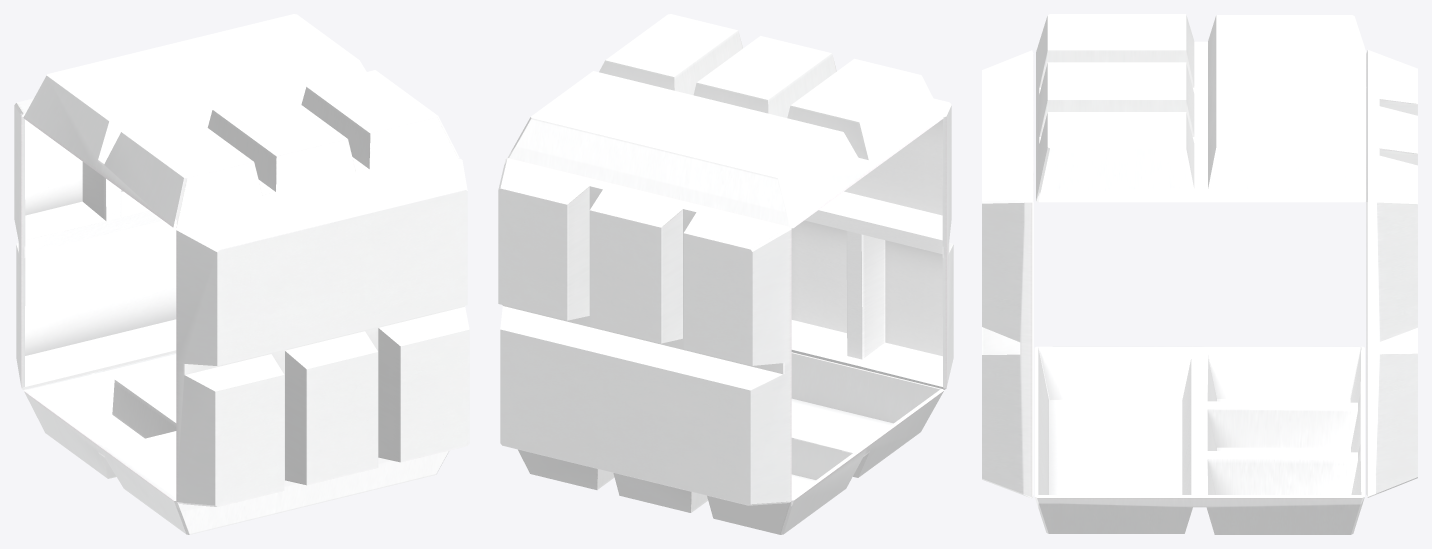
Rendered from bento_center_cube.glb.
The picture shows the model from 3 angles, left to right: view 1: azimuth 30°, elevation 25°; view 2: azimuth 150°, elevation 25°; view 3: azimuth 270°, elevation 25°; orthographic projection. The views are drawn at different scales.
Parts seen in each view (by area): view 1: box_center_cube; view 2: box_center_cube; view 3: box_center_cube.
Boxes of the visible parts, bbox=[...] form: box_center_cube: bbox=[14, 14, 469, 534]; box_center_cube: bbox=[498, 14, 953, 534]; box_center_cube: bbox=[982, 14, 1417, 534].
Bounding box in the file's own units: 3.66 × 4.36 × 4.46.
Materials: 1 (1 with a texture image).
